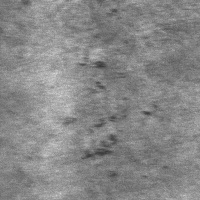rolled-in_scale: (71, 44, 136, 184)
